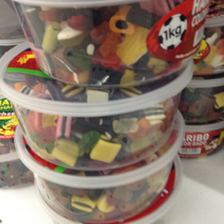candy: (1, 65, 195, 172), (11, 1, 207, 87)
